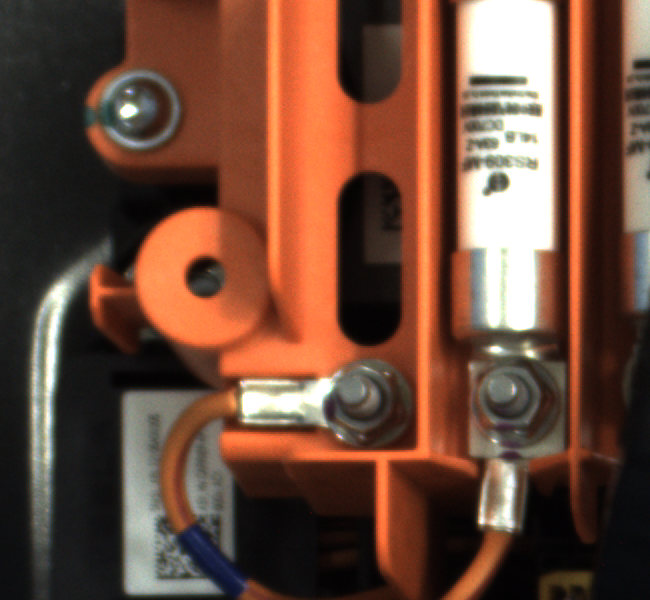screw_m: (93, 62, 195, 154)
screw_s: (465, 358, 580, 454), (316, 353, 419, 445)
